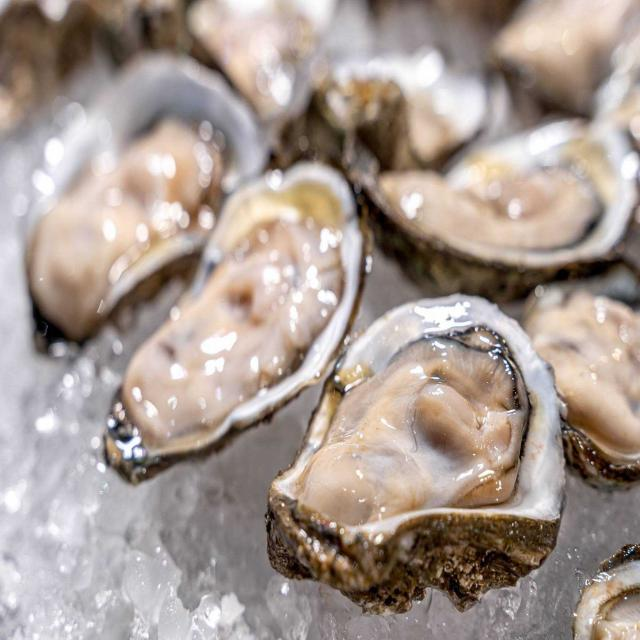Oyster-Open: (268, 295, 565, 612), (121, 162, 361, 457), (26, 55, 265, 339), (358, 120, 639, 298), (278, 48, 488, 173), (524, 281, 640, 487), (188, 1, 335, 119), (574, 545, 640, 639)
